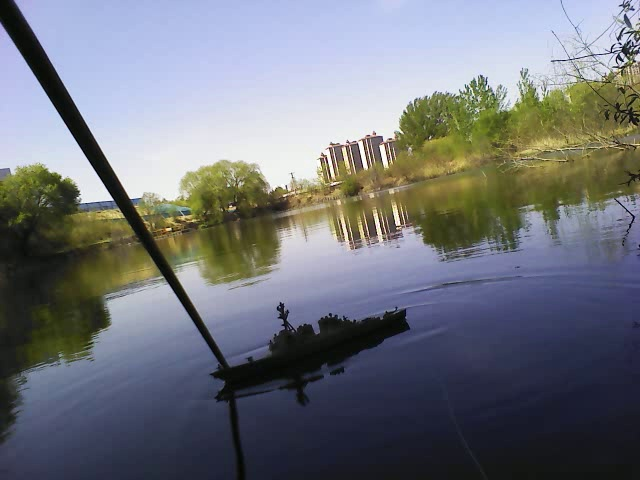warship: (205, 303, 407, 383)
